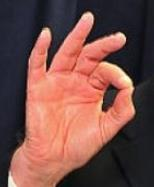left: (20, 11, 135, 164)
